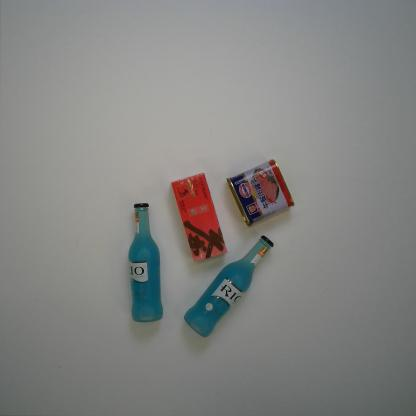Alcohol: (183, 233, 274, 340), (127, 202, 164, 323)
Canned Food: (226, 158, 296, 228)
Instant Drink: (171, 171, 228, 265)
